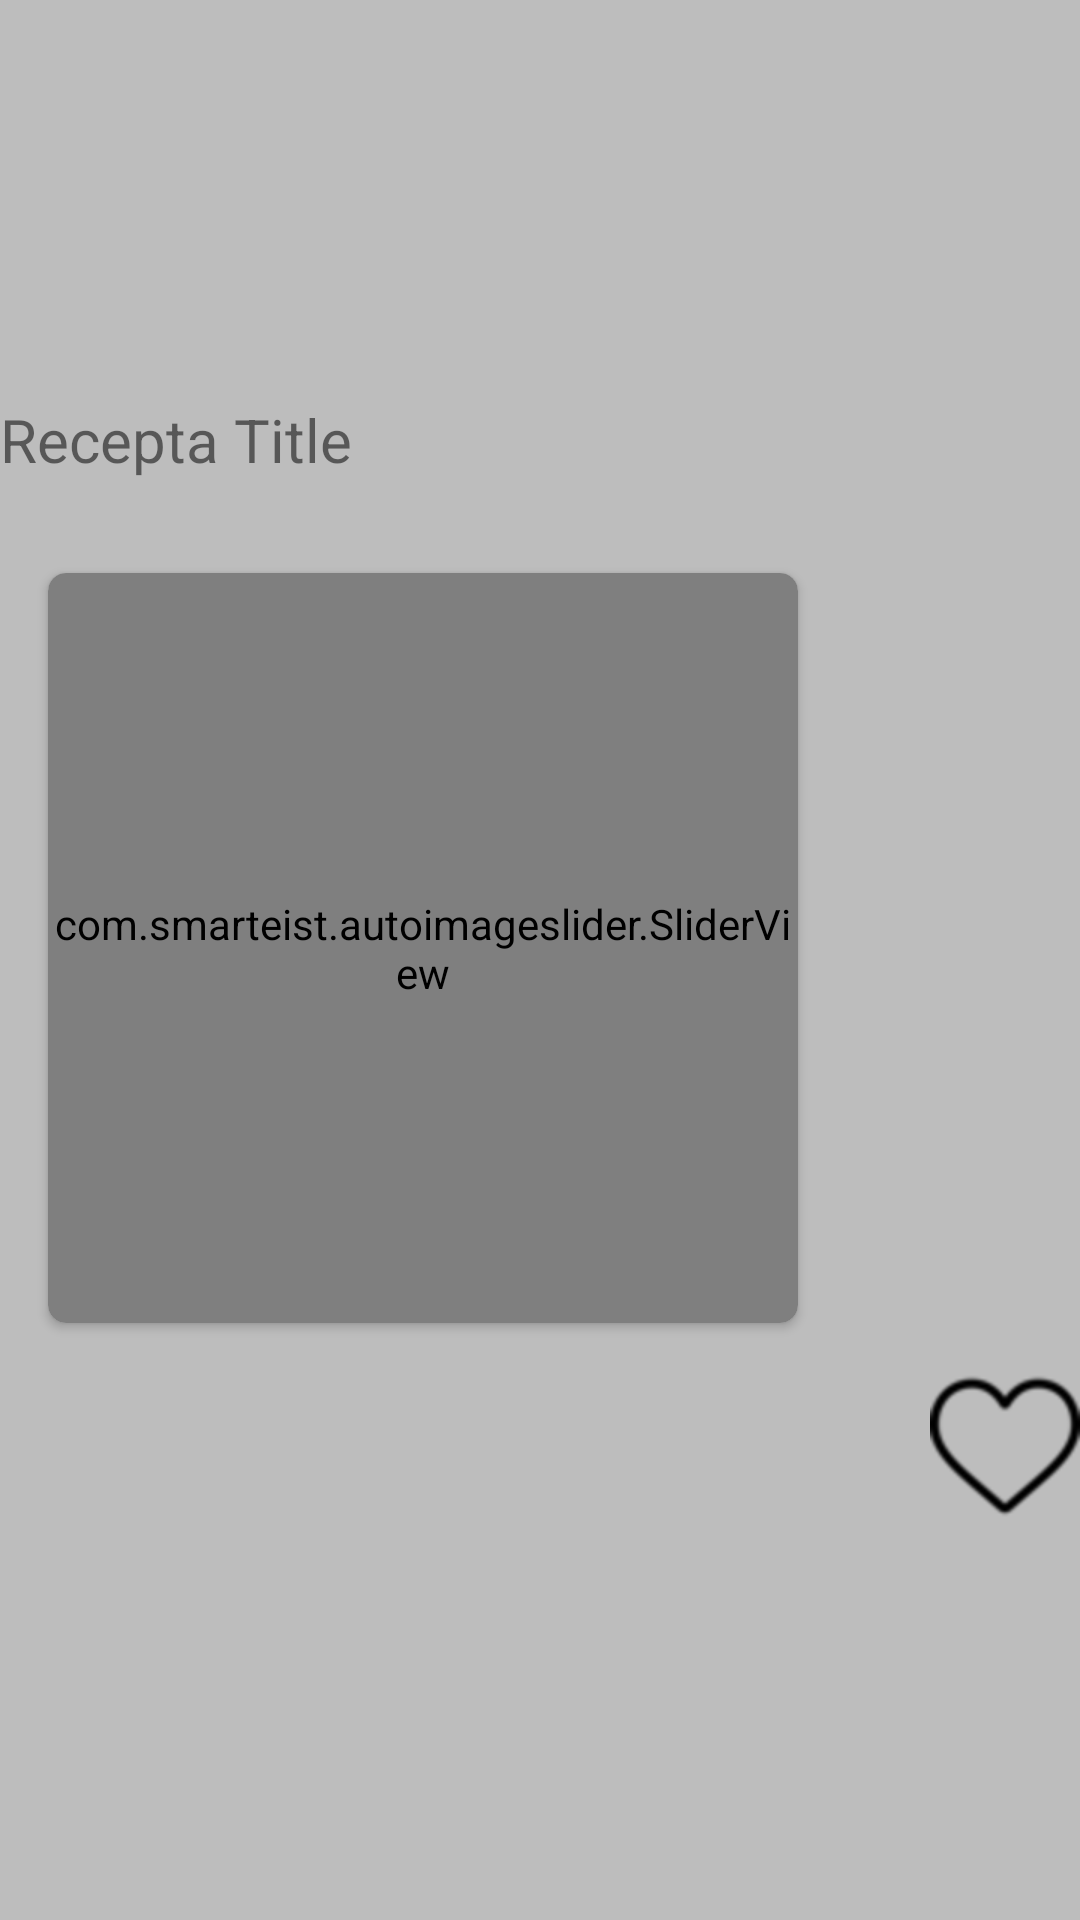

Where icons sit on this 1080px x 1920px app screen, as [x1,y1,x2,y2]:
heart: [930,1377,1080,1515]
